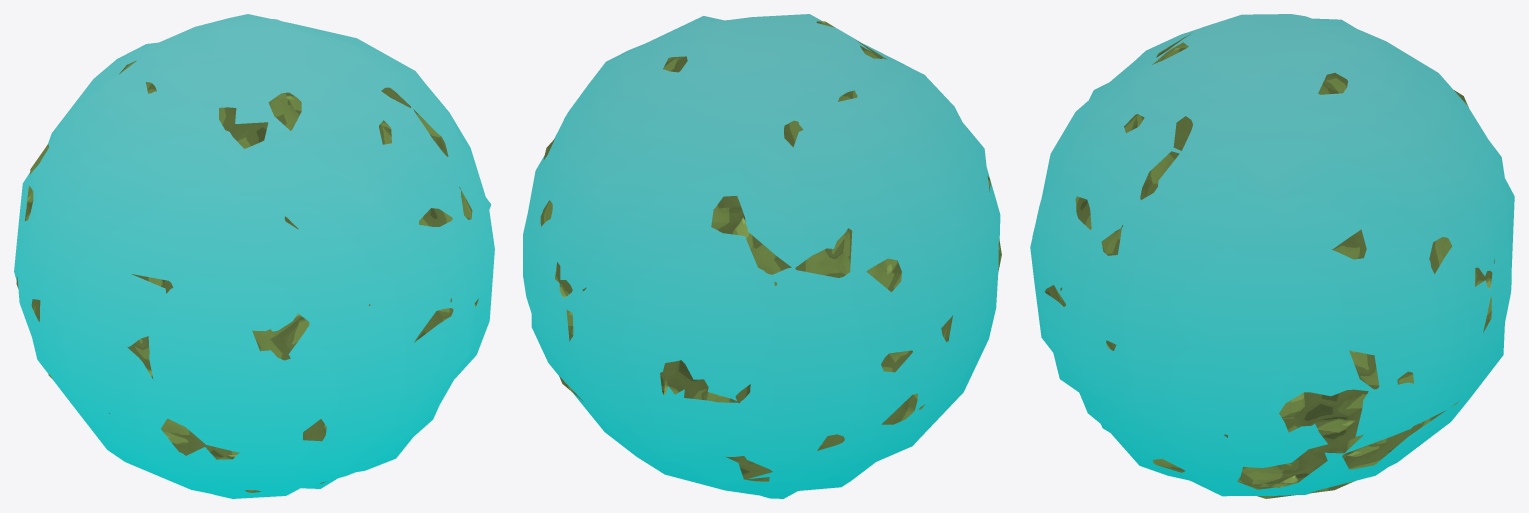
File: SM_Env_Hedge_Topiary_01.fbx
The picture shows the model from 3 angles, left to right: view 1: azimuth 30°, elevation 25°; view 2: azimuth 150°, elevation 25°; view 3: azimuth 270°, elevation 25°; orthographic projection.
Visible parts, largest first — view 1: SM_Env_Hedge_Topiary_01_LOD0; view 2: SM_Env_Hedge_Topiary_01_LOD0; view 3: SM_Env_Hedge_Topiary_01_LOD0.
Part boxes in pixels (x1,y1,x2,y2): SM_Env_Hedge_Topiary_01_LOD0: (14, 14, 494, 498); SM_Env_Hedge_Topiary_01_LOD0: (523, 14, 1001, 498); SM_Env_Hedge_Topiary_01_LOD0: (1030, 14, 1514, 498).
Size of what is drawn, in the model's own units: 205 by 208 by 205.
